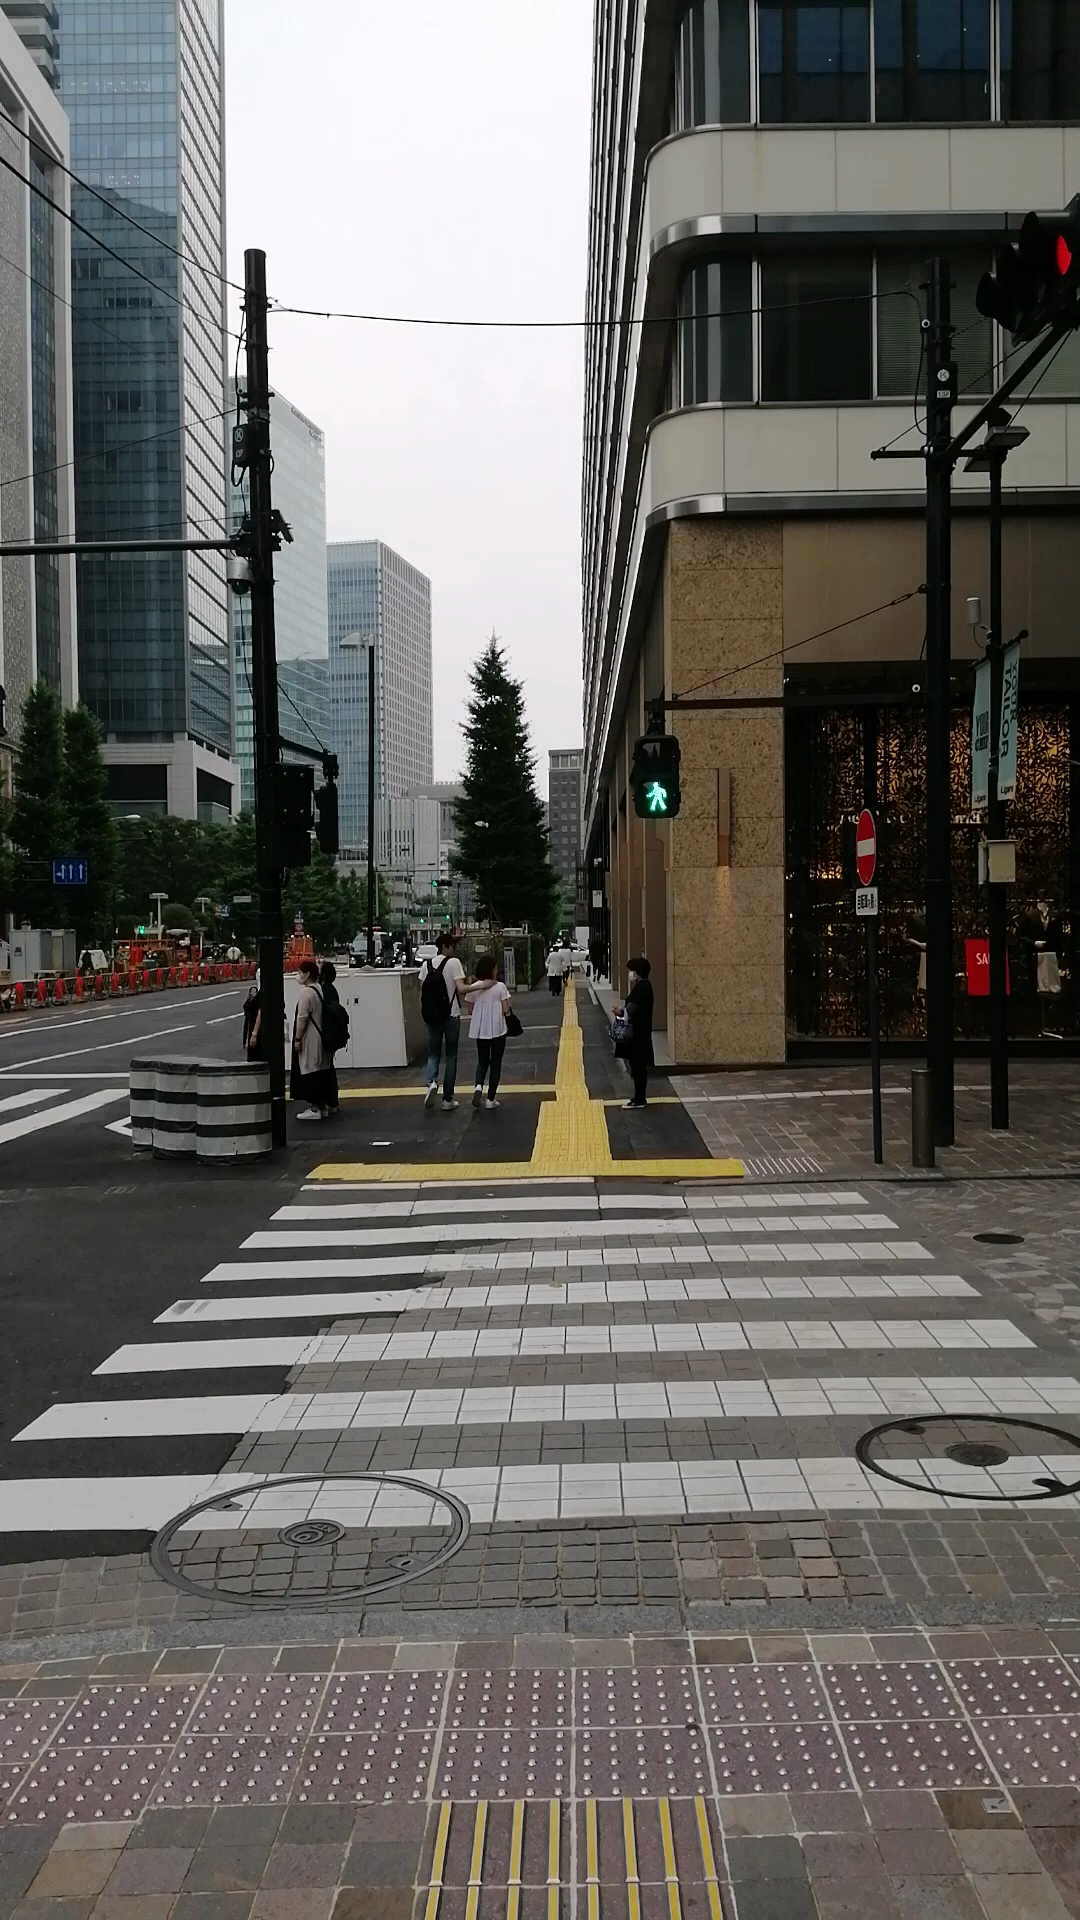green: (630, 733, 680, 819)
